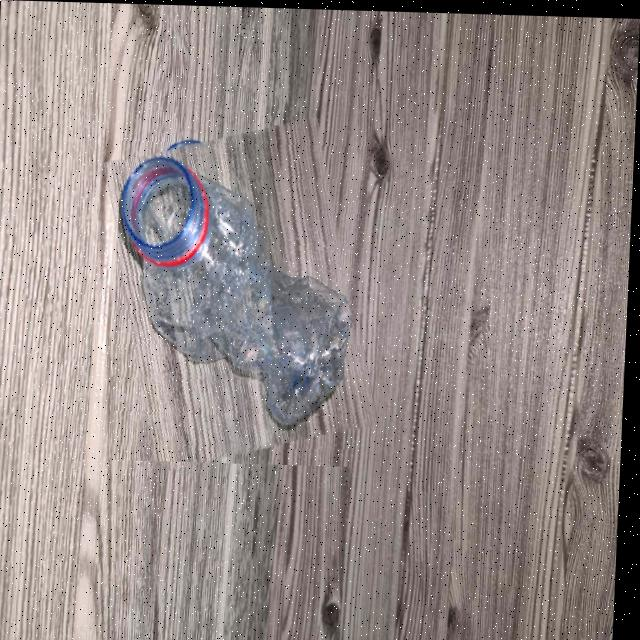plasticbottle: (111, 121, 375, 465)
